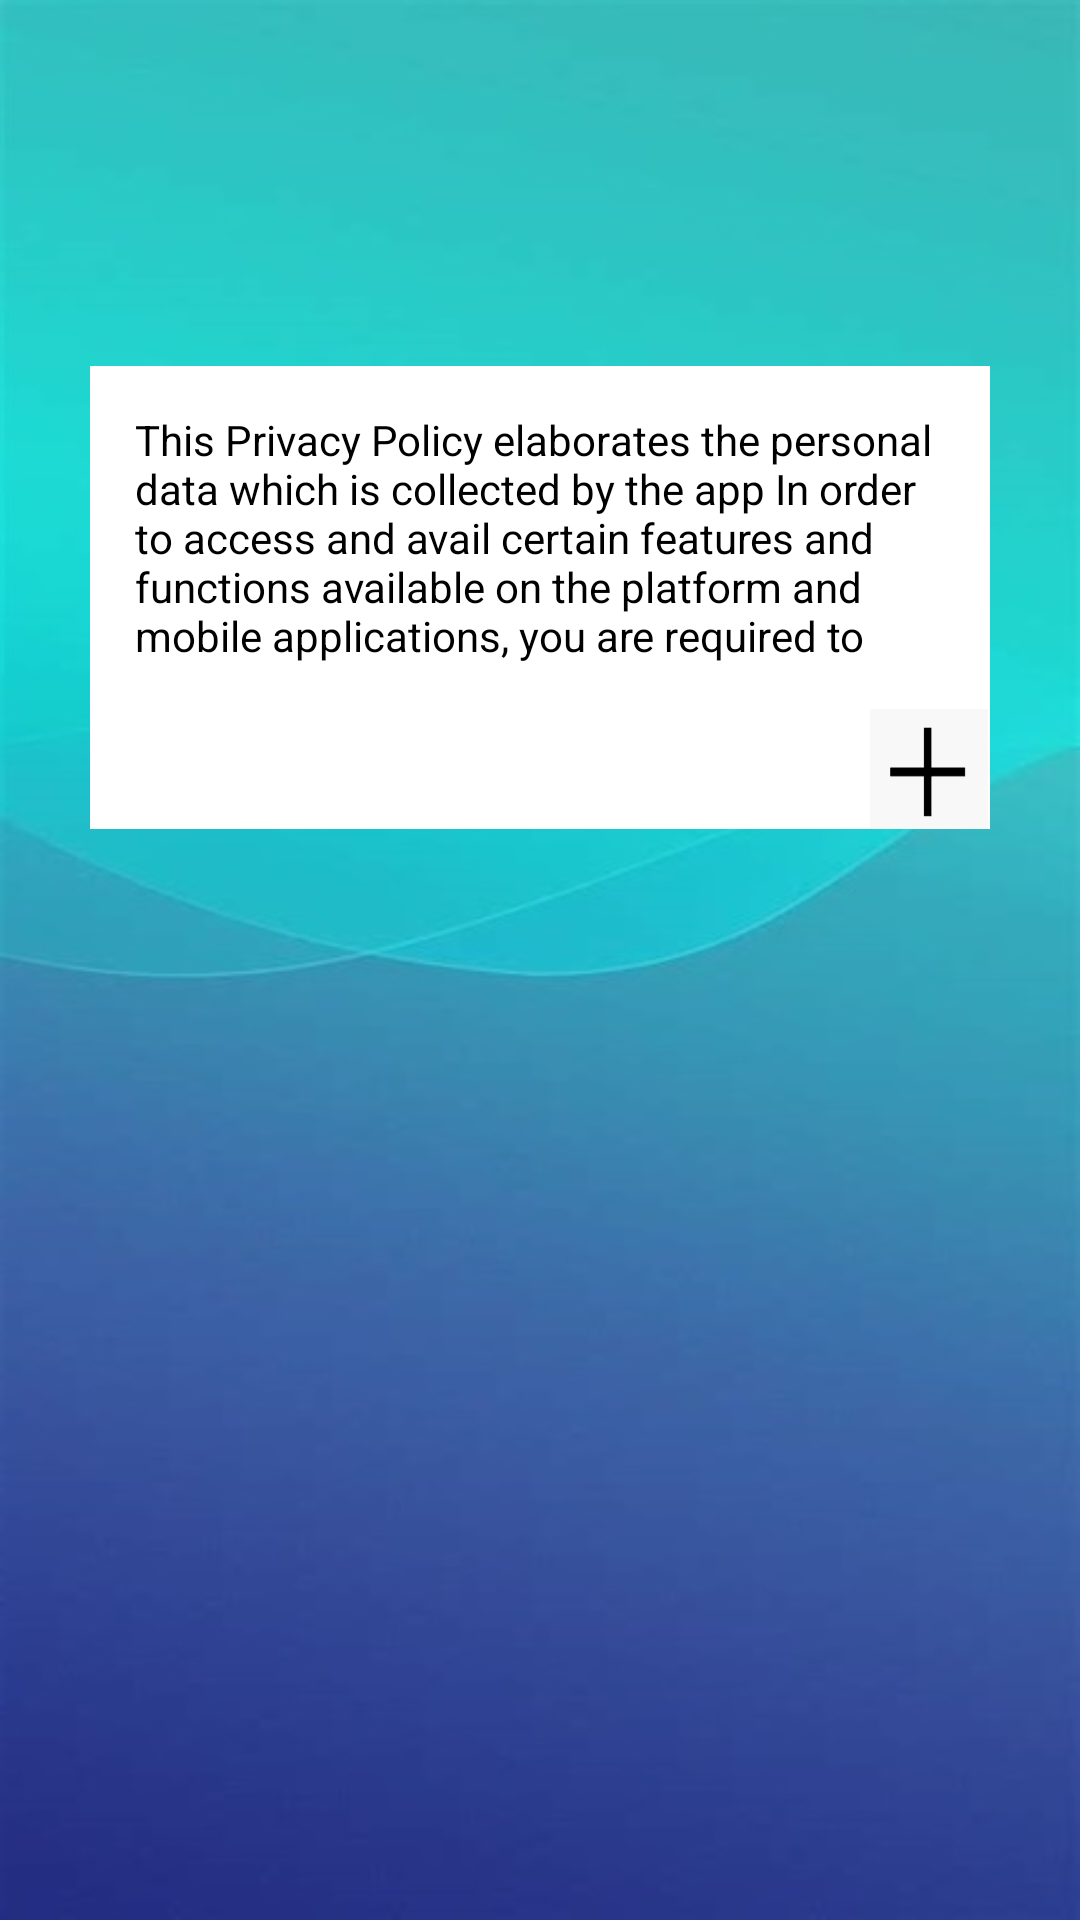

Icon click points for this 1080 x 1920 phone screenshot, format point (x, y):
plus: point (928, 772)
